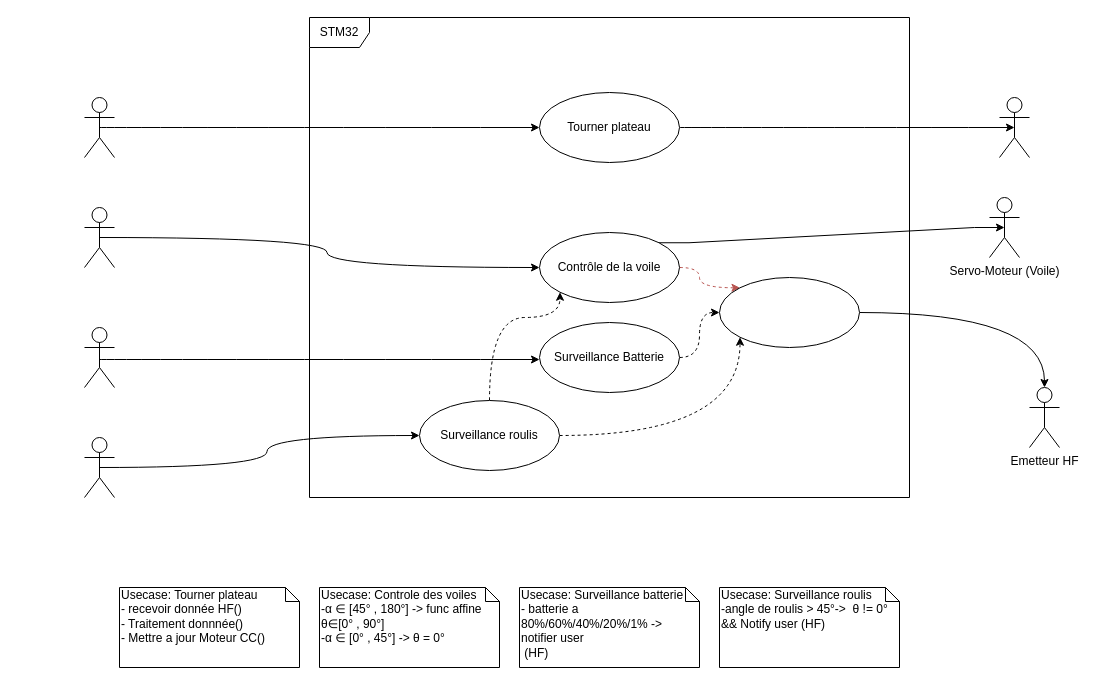
This 1096x685 diagram has some shape labels left out. Each missing label, with the centre of its shape:
"Accelerometre (Rouli)" goes at (x=99, y=467).
"Accu 7V2 (Batterie)" goes at (x=99, y=357).
"Codeur incrémental (Girouette)" goes at (x=99, y=237).
"Envoyer Message HF" goes at (x=789, y=312).
"moteur CC (Plateau)" goes at (x=1014, y=127).
"Recepteur HF" goes at (x=99, y=127).
